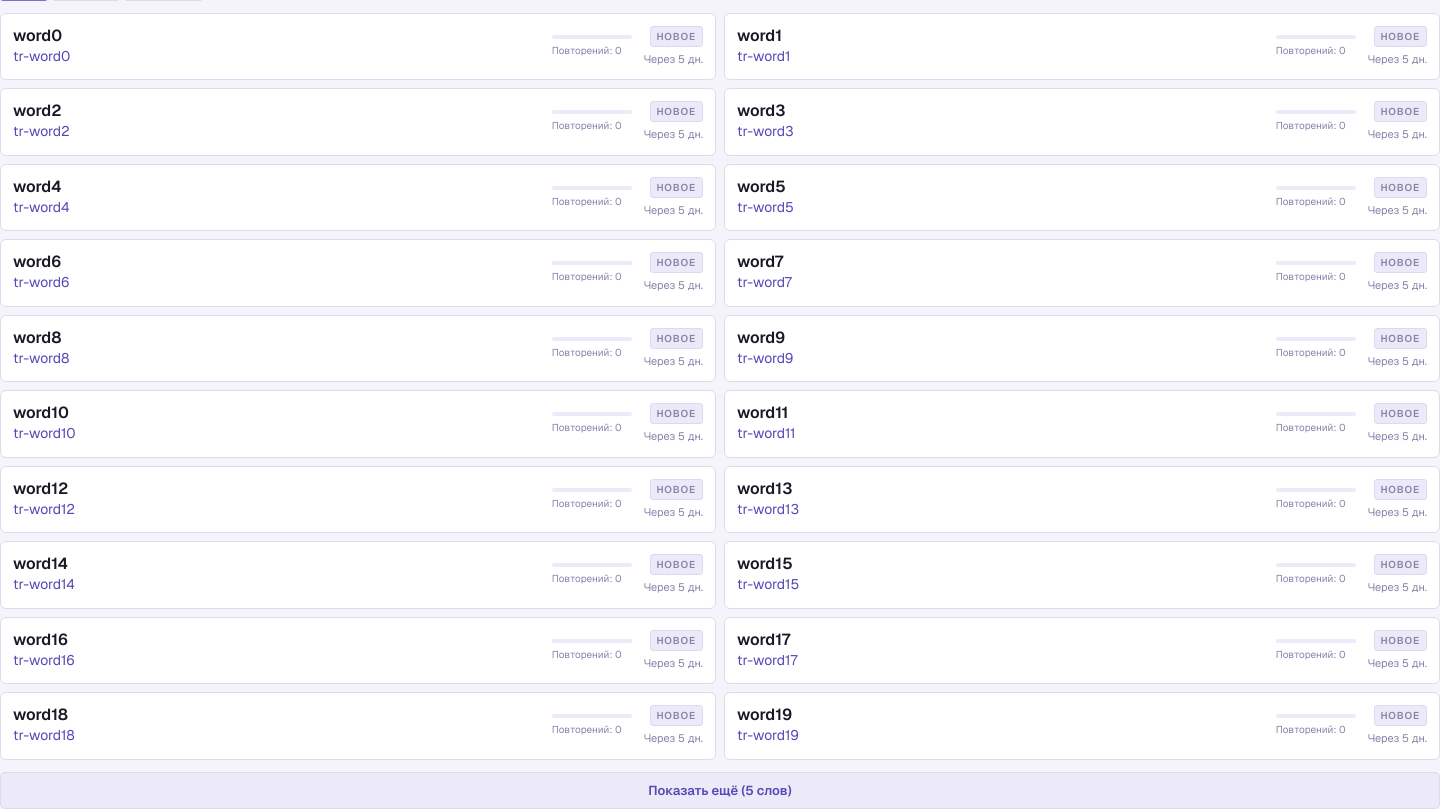
it: VocabList › "Show more" button loads next 20 items
(page scrolled)
Check: the text "word20" is not shown
Step 1. Click the button "Показать ещё (5 слов)" → x=720, y=790, box [0,772,1439,808]
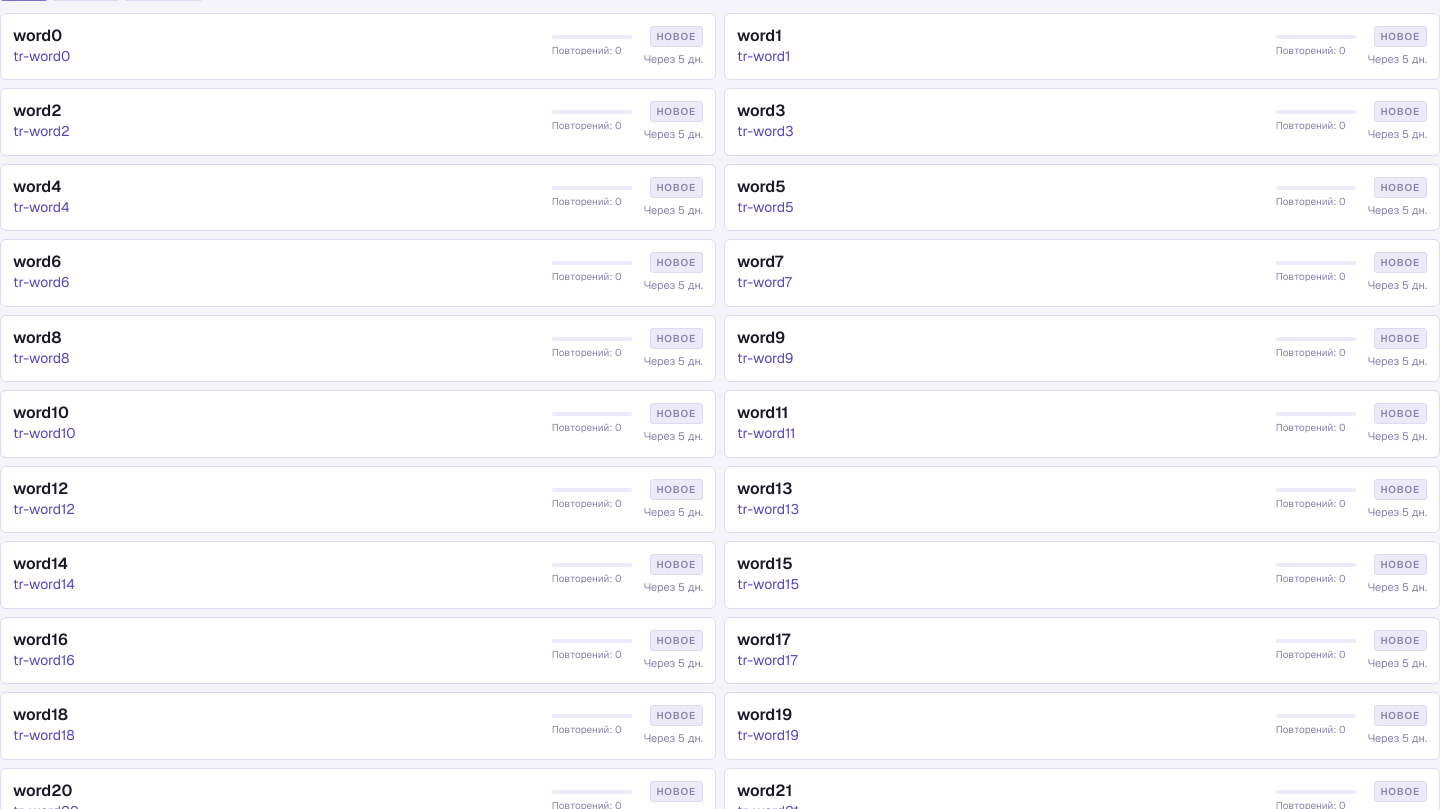
Check: the text "word20" is shown, box [13,780,72,801]
